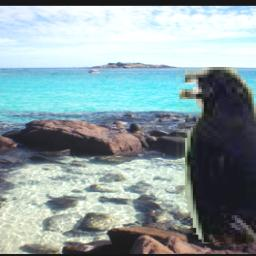Crow: (175, 67, 256, 243)
